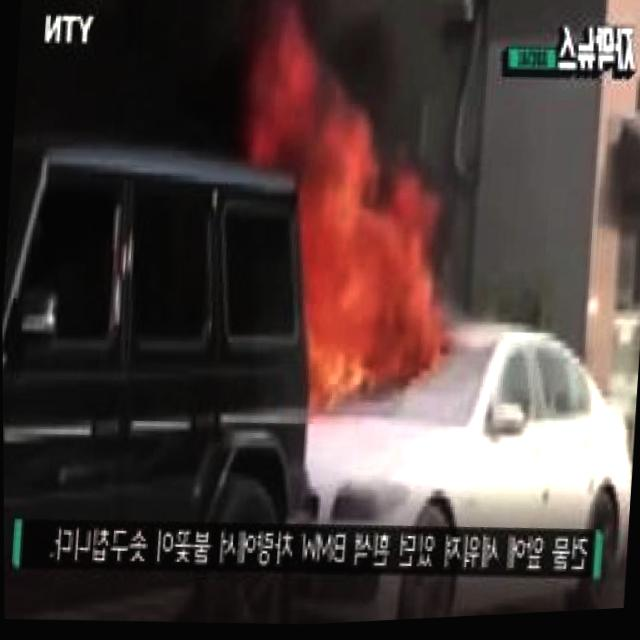helmet: (213, 0, 485, 430)
